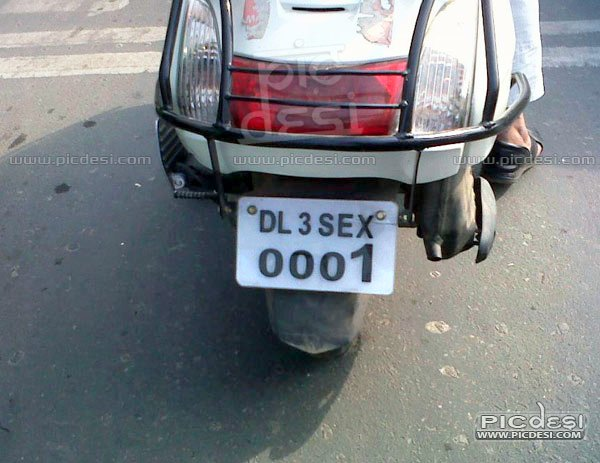number_plate: (233, 193, 401, 299)
